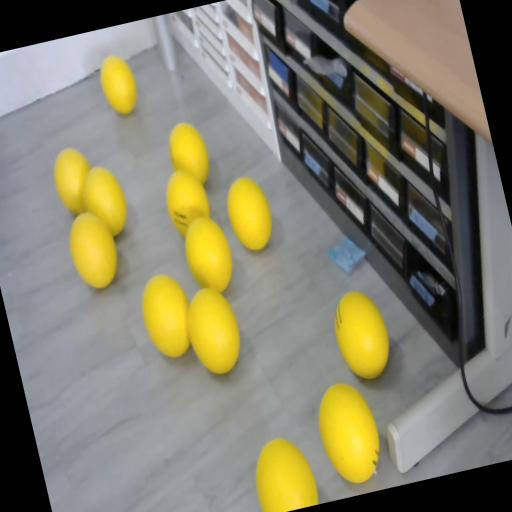FUEL: (310, 376, 390, 488), (326, 284, 396, 383), (179, 283, 248, 379), (134, 269, 200, 362), (246, 431, 320, 512), (62, 206, 126, 294), (178, 210, 240, 298), (219, 170, 279, 256), (48, 143, 101, 219), (164, 118, 216, 190), (95, 50, 143, 118)
